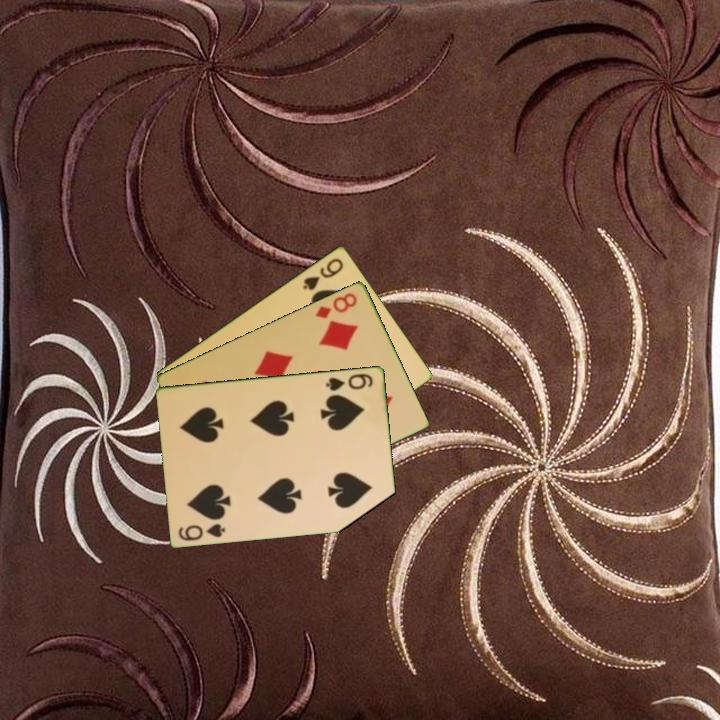6s: (323, 369, 376, 394), (175, 520, 228, 543)
8d: (312, 289, 360, 321)
9s: (299, 254, 346, 293)
